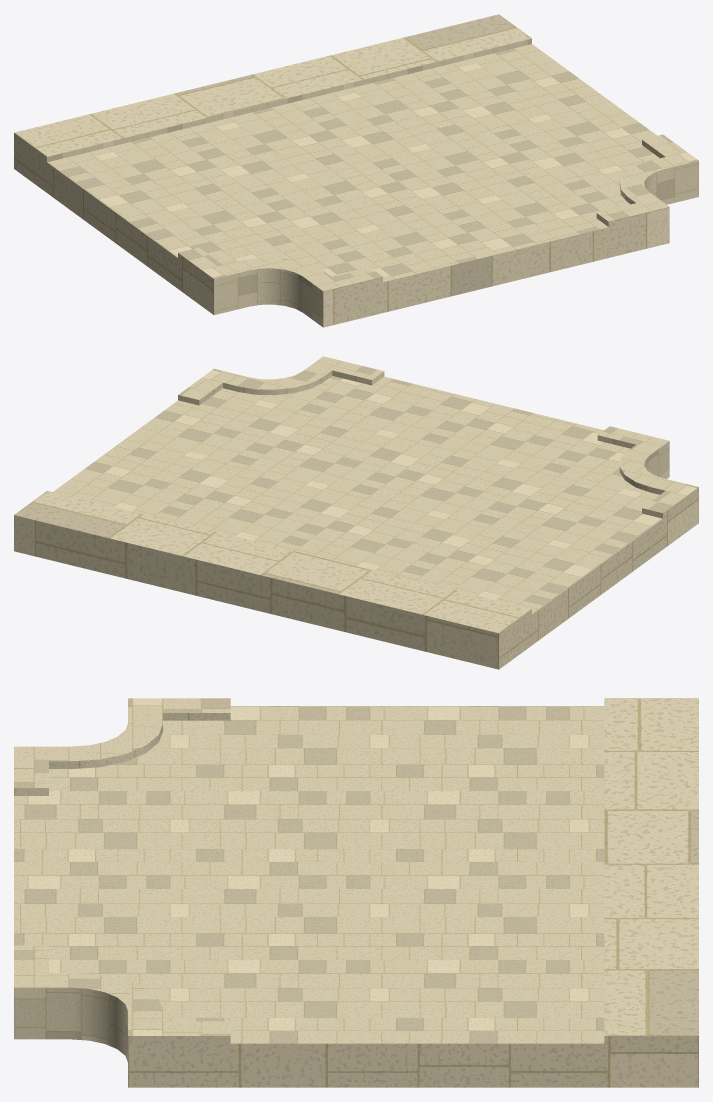
The model's file is Road_T.gltf.
3 views of the same model, one above another, from view 1: azimuth 30°, elevation 25°; view 2: azimuth 150°, elevation 25°; view 3: azimuth 270°, elevation 25° (orthographic). The views are drawn at different scales.
Parts seen in each view (by area): view 1: Cube.018; view 2: Cube.018; view 3: Cube.018.
Part boxes in pixels (x1,y1,x2,y2): Cube.018: (14, 14, 698, 327); Cube.018: (14, 356, 698, 669); Cube.018: (14, 698, 698, 1087).
Bounding box in the file's own units: 14 × 1 × 12.
